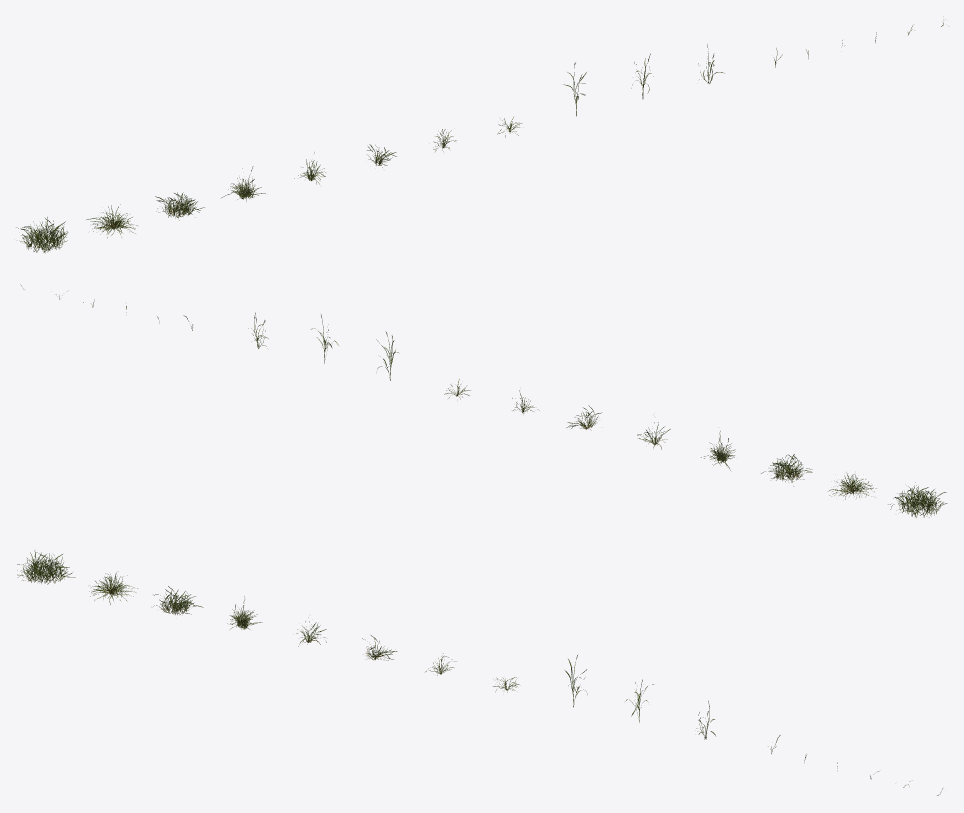
File: grass_medium_01.glb
The picture shows the model from 3 angles, top to bottom: view 1: azimuth 30°, elevation 25°; view 2: azimuth 150°, elevation 25°; view 3: azimuth 330°, elevation 25°; orthographic projection.
Visible parts, largest first — view 1: grass_medium_01_large_a_LOD0, grass_medium_01_large_c_LOD0, grass_medium_01_large_b_LOD0; view 2: grass_medium_01_large_a_LOD0, grass_medium_01_large_c_LOD0; view 3: grass_medium_01_large_a_LOD0, grass_medium_01_large_c_LOD0.
Part boxes in pixels (box(x1,y1,x2,y2)): grass_medium_01_large_a_LOD0: box(16, 217, 68, 253); grass_medium_01_large_c_LOD0: box(155, 192, 204, 220); grass_medium_01_large_b_LOD0: box(86, 204, 137, 238); grass_medium_01_large_a_LOD0: box(888, 482, 947, 517); grass_medium_01_large_c_LOD0: box(761, 454, 812, 486); grass_medium_01_large_a_LOD0: box(17, 550, 75, 584); grass_medium_01_large_c_LOD0: box(153, 586, 203, 614).
Bounding box in the file's own units: 2 × 0.1222 × 0.1165.
Materials: 1 (1 with a texture image).
